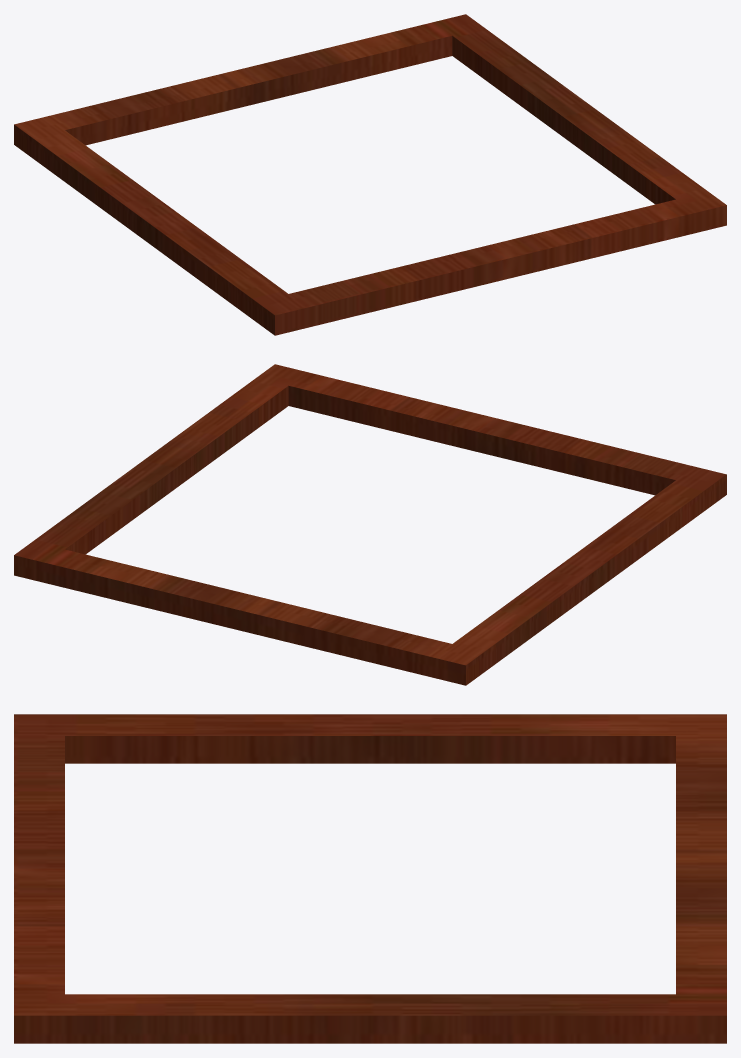
Rendered from OuterBorder.FBX.
3 renders of one model, top to bottom at view 1: azimuth 30°, elevation 25°; view 2: azimuth 150°, elevation 25°; view 3: azimuth 270°, elevation 25°, orthographic. The views are drawn at different scales.
Visible parts, largest first — view 1: OuterBorder; view 2: OuterBorder; view 3: OuterBorder.
Part boxes in pixels (bbox=[...]): OuterBorder: bbox=[14, 14, 726, 335]; OuterBorder: bbox=[14, 364, 726, 685]; OuterBorder: bbox=[14, 714, 726, 1043].
Size of the model in its own units: 138 by 5.91 by 138.
